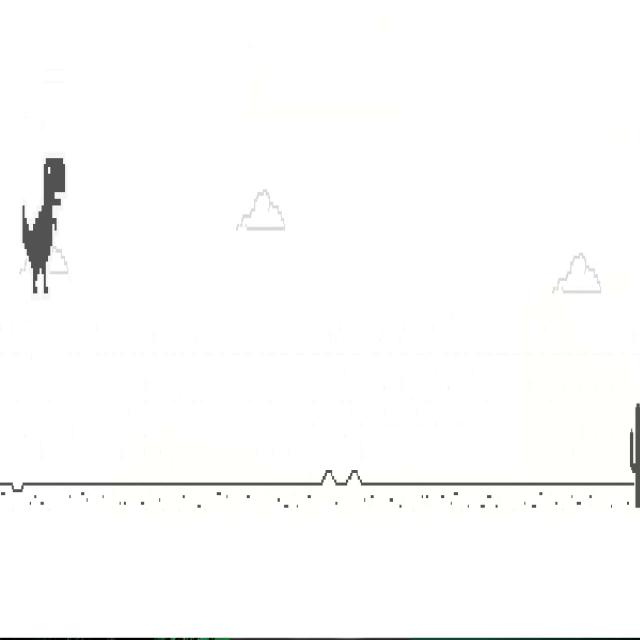cacto: (629, 402, 640, 509)
dino: (21, 156, 66, 296)
